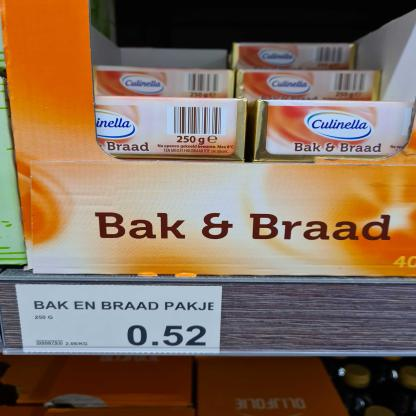prtg: (16, 285, 223, 354)
